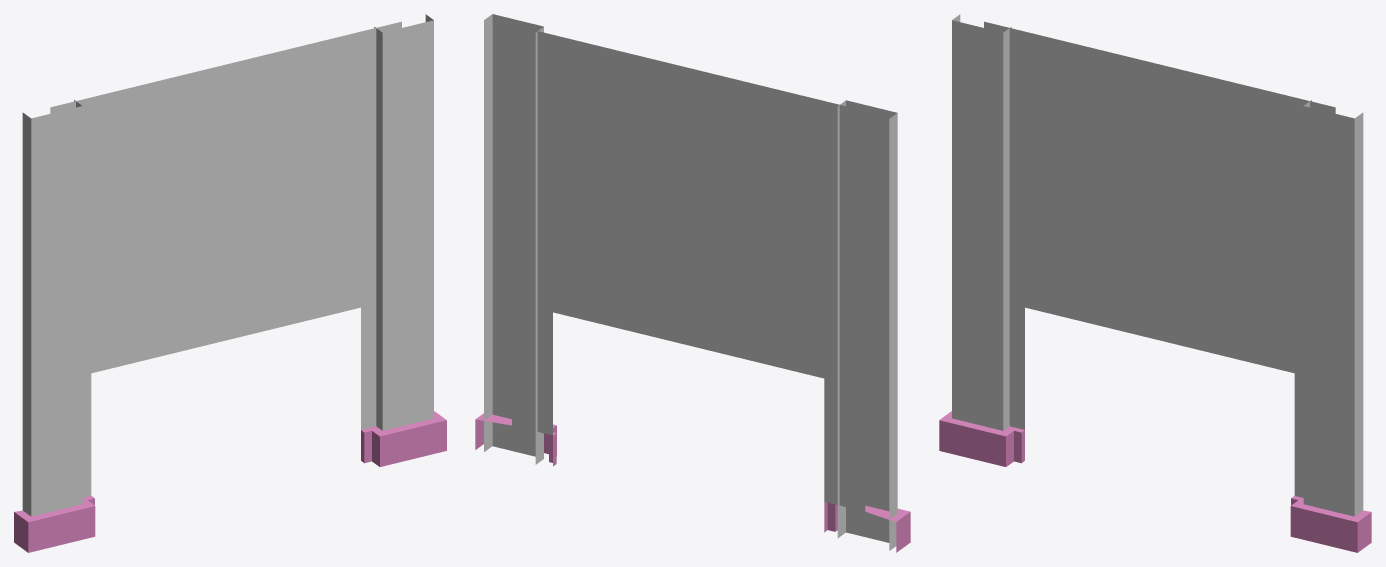
File: Wall3.fbx
3 renders of one model, left to right at view 1: azimuth 30°, elevation 25°; view 2: azimuth 150°, elevation 25°; view 3: azimuth 330°, elevation 25°, orthographic.
Visible parts, largest first — view 1: Cube.008; view 2: Cube.008; view 3: Cube.008.
Boxes of the visible parts, <box> form: Cube.008: <box>14,14,446,552</box>; Cube.008: <box>475,14,910,552</box>; Cube.008: <box>939,14,1371,552</box>.
Bounding box in the file's own units: 7.14 × 7.01 × 0.4202.
